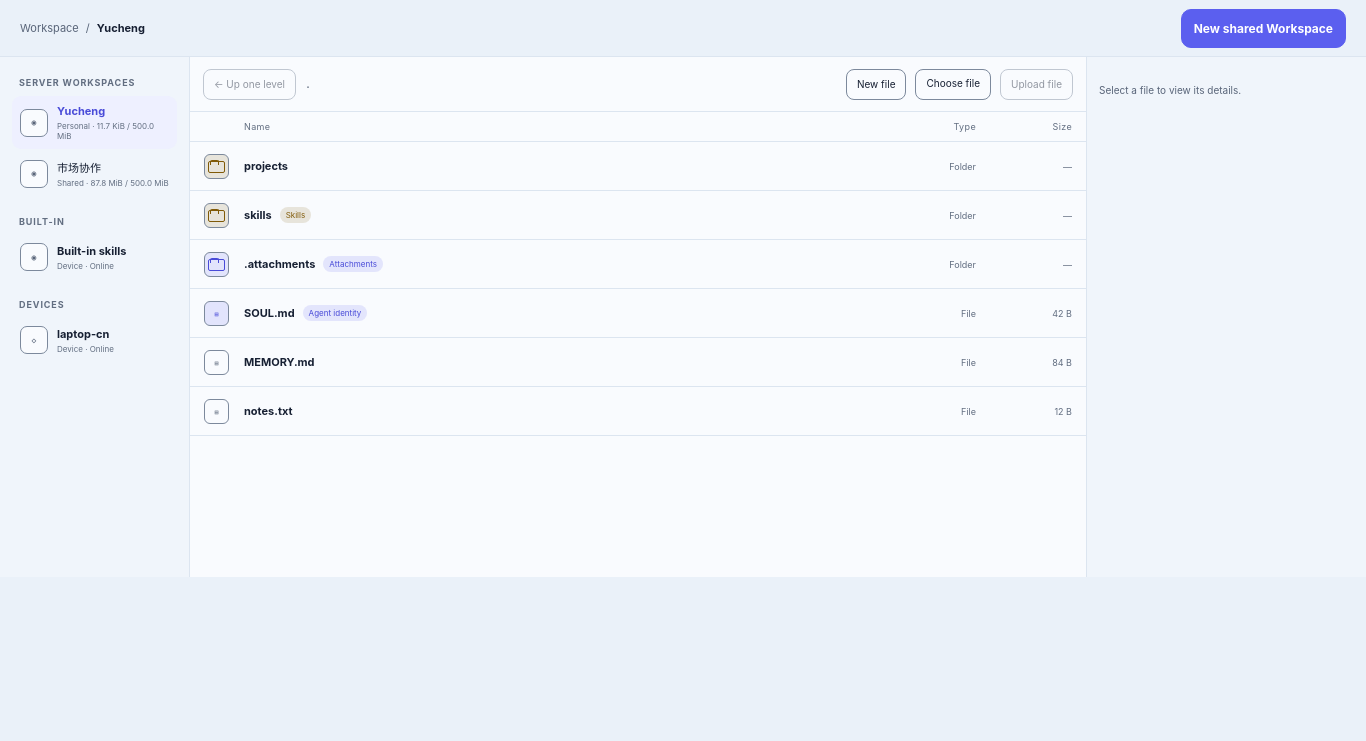
Test: WorkspacePage › ignores a stale file-read failure after switching Workspace locations
The image size is (1366, 741).
Click the button "▤ notes.txt File 12 B" at x=268, y=411, box x1=190 y1=387 x2=1086 y2=435
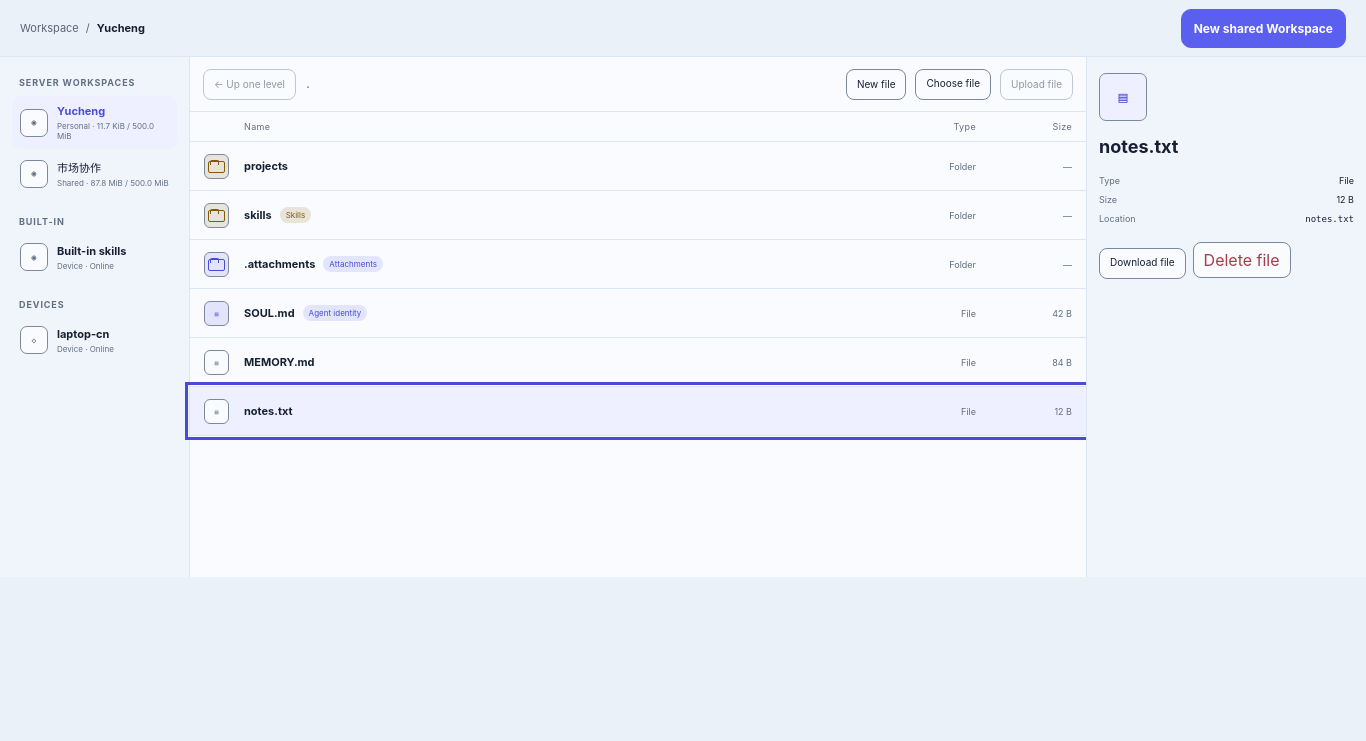
Click the button "◉ 市场协作 Shared · 87.8 MiB / 500.0 MiB" at x=94, y=174, box x1=12 y1=151 x2=177 y2=196
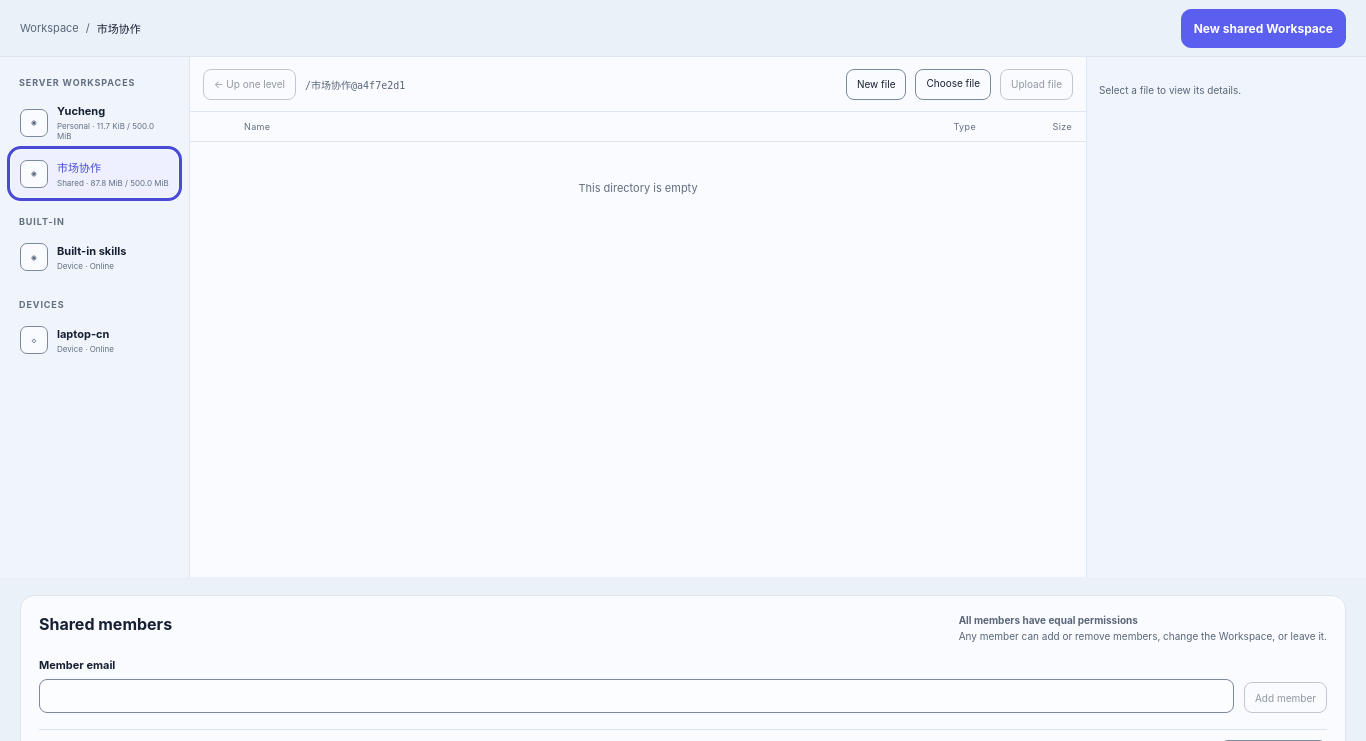
Expected: the text "All members have equal permissions" is shown, x1=959 y1=614 x2=1138 y2=626
